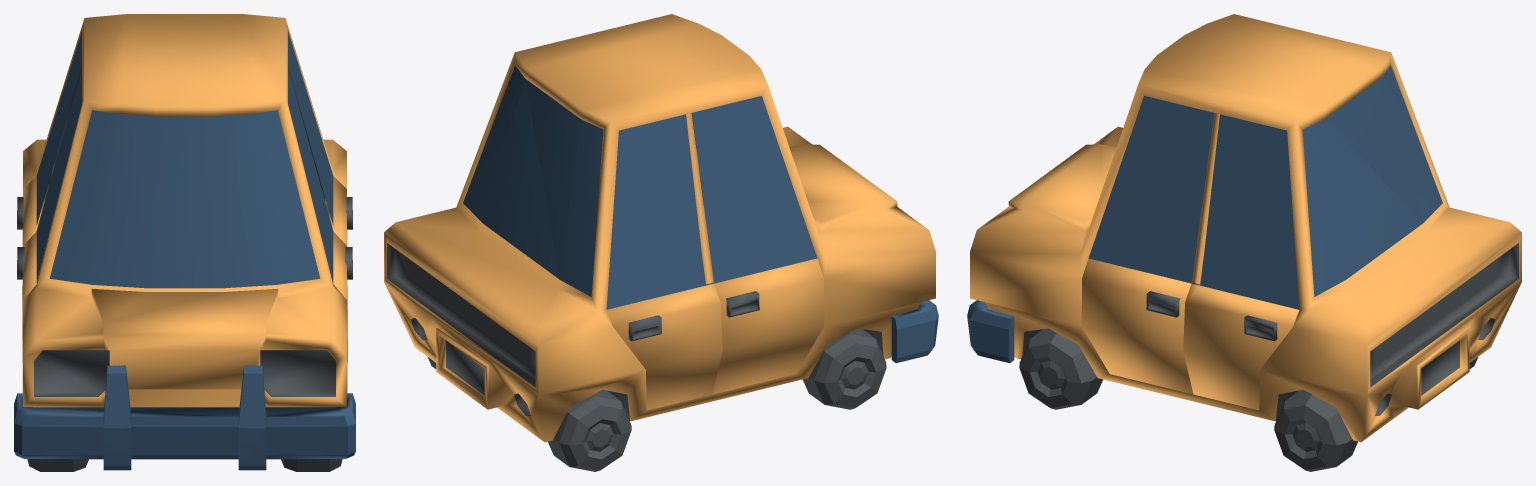
File: Toy208.fbx
3 views of the same model, side by side, from view 1: azimuth 30°, elevation 25°; view 2: azimuth 150°, elevation 25°; view 3: azimuth 270°, elevation 25° (orthographic). The views are drawn at different scales.
Parts seen in each view (by area): view 1: Toy208; view 2: Toy208; view 3: Toy208.
Part boxes in pixels (box(x1,y1,x2,y2)): Toy208: box(14, 14, 355, 471); Toy208: box(384, 14, 938, 471); Toy208: box(967, 14, 1521, 471).
Size of the model in its own units: 0.1768 by 0.1263 by 0.1953.
